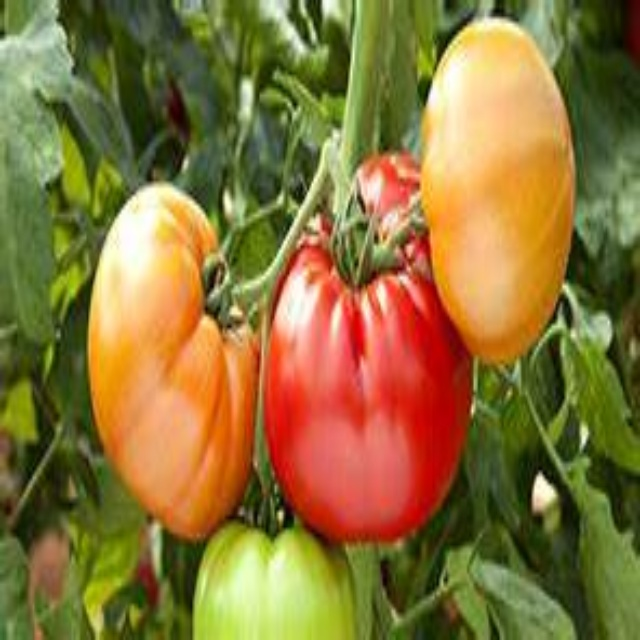tomato: (264, 153, 461, 542), (77, 189, 251, 538), (416, 25, 574, 359), (171, 513, 365, 636)
